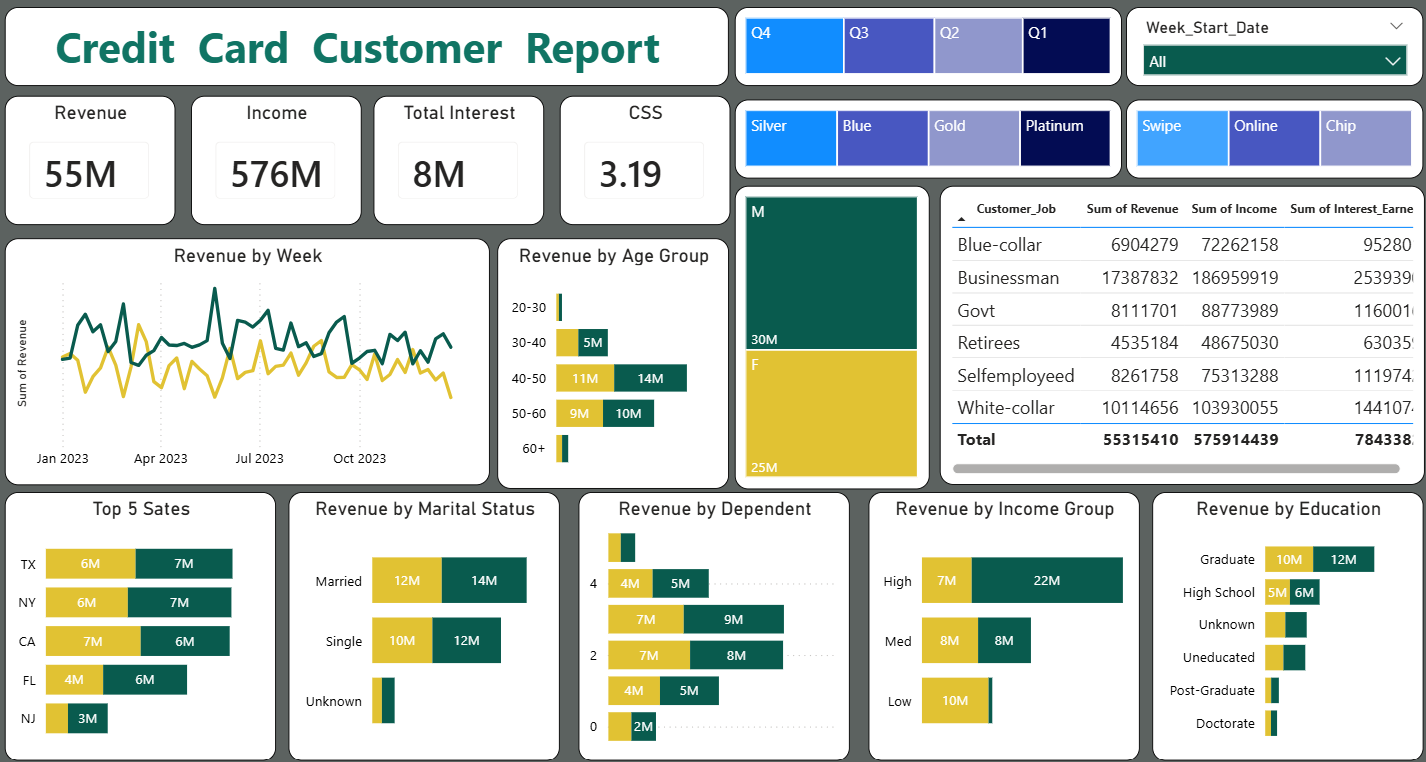

The page's visual inventory and layout, read from the dashboard file:
{"tool":"powerbi","page":{"name":"CC Customer","canvas":[1280,720],"ordinal":2},"visuals":[{"type":"textbox","box":[8.3,45,645,70],"z":0},{"type":"barChart","title":"Revenue by Income Group","fields":{"Y":["Sum(credit_card (1).Revenue)"],"Category":["customer.IncomeGroup"],"Series":["customer.Gender"]},"box":[776.7,476.7,241.7,240],"z":1000},{"type":"tableEx","fields":{"Values":["customer.Customer_Job","Sum(credit_card (1).Revenue)","Sum(customer.Income)","Sum(credit_card (1).Interest_Earned)"]},"box":[840,203.3,431.7,266.7],"z":2000},{"type":"cardVisual","title":"Revenue","fields":{"Data":["Sum(credit_card (1).Revenue)"]},"box":[8.3,123.3,151.7,115],"z":3000},{"type":"cardVisual","title":"Income","fields":{"Data":["Sum(customer.Income)"]},"box":[173.3,123.3,151.7,115],"z":4000},{"type":"cardVisual","title":"Total Interest","fields":{"Data":["Sum(credit_card (1).Interest_Earned)"]},"box":[336.7,123.3,151.7,115],"z":5000},{"type":"cardVisual","title":"CSS","fields":{"Data":["Avg(customer.Cust_Satisfaction_Score)"]},"box":[501.7,123.3,151.7,115],"z":6000},{"type":"slicer","fields":{"Values":["credit_card (1).Week_Start_Date"]},"box":[1006.7,45,265,70],"z":7000},{"type":"treemap","fields":{"Group":["credit_card (1).Qtr"],"Values":["Avg(credit_card (1).Client_Num)"]},"box":[658.3,45,345,70],"z":8000},{"type":"treemap","fields":{"Values":["Avg(credit_card (1).Client_Num)"],"Group":["credit_card (1).Card_Category"]},"box":[658.3,126.7,345,70],"z":9000},{"type":"actionButton","box":[0,0,100,40],"z":10000},{"type":"lineChart","title":"Revenue by Week","fields":{"Series":["customer.Gender"],"Y":["Sum(credit_card (1).Revenue)"],"Category":["credit_card (1).Week_Start_Date.Variation.Date Hierarchy.Year","credit_card (1).Week_Start_Date.Variation.Date Hierarchy.Month","credit_card (1).Week_Start_Date.Variation.Date Hierarchy.Day"]},"box":[8.3,250,431.7,220],"z":11000},{"type":"treemap","fields":{"Group":["customer.Gender"],"Values":["Sum(credit_card (1).Revenue)"]},"box":[658.3,203.3,173.3,270],"z":12000},{"type":"barChart","title":"Revenue by Age Group","fields":{"Y":["Sum(credit_card (1).Revenue)"],"Category":["customer.AgeGroup"],"Series":["customer.Gender"]},"box":[446.7,250,206.7,223.3],"z":13000},{"type":"barChart","title":"Revenue by Dependent","fields":{"Y":["Sum(credit_card (1).Revenue)"],"Category":["customer.Dependent_Count"],"Series":["customer.Gender"]},"box":[518.3,476.7,241.7,240],"z":14000},{"type":"barChart","title":"Revenue by Education","fields":{"Y":["Sum(credit_card (1).Revenue)"],"Category":["customer.Education_Level"],"Series":["customer.Gender"]},"box":[1030,476.7,241.7,240],"z":15000},{"type":"barChart","title":"Top 5 Sates","fields":{"Y":["Sum(credit_card (1).Revenue)"],"Category":["customer.state_cd"],"Series":["customer.Gender"]},"box":[8.3,476.7,241.7,240],"z":16000},{"type":"barChart","title":"Revenue by Marital Status","fields":{"Y":["Sum(credit_card (1).Revenue)"],"Category":["customer.Marital_Status"],"Series":["customer.Gender"]},"box":[260,476.7,241.7,240],"z":17000},{"type":"treemap","fields":{"Values":["Avg(credit_card (1).Client_Num)"],"Group":["credit_card (1).Use Chip"]},"box":[1006.7,126.7,265,70],"z":18000}]}

Visuals, with their boxes in screenshot pixels (x1, y1, x2, y2):
textbox: [2,2,725,81]
"Revenue by Income Group" barChart: [863,486,1134,755]
tableEx - customer.Customer_Job x Sum(credit_card (1).Revenue): [934,180,1418,478]
"Revenue" cardVisual: [2,90,172,219]
"Income" cardVisual: [187,90,357,219]
"Total Interest" cardVisual: [370,90,540,219]
"CSS" cardVisual: [555,90,725,219]
slicer - credit_card (1).Week_Start_Date: [1121,2,1418,81]
treemap - credit_card (1).Qtr x Avg(credit_card (1).Client_Num): [730,2,1117,81]
treemap - Avg(credit_card (1).Client_Num) x credit_card (1).Card_Category: [730,94,1117,172]
"Revenue by Week" lineChart: [2,232,486,478]
treemap - customer.Gender x Sum(credit_card (1).Revenue): [730,180,925,482]
"Revenue by Age Group" barChart: [493,232,725,482]
"Revenue by Dependent" barChart: [573,486,844,755]
"Revenue by Education" barChart: [1147,486,1418,755]
"Top 5 Sates" barChart: [2,486,273,755]
"Revenue by Marital Status" barChart: [284,486,555,755]
treemap - Avg(credit_card (1).Client_Num) x credit_card (1).Use Chip: [1121,94,1418,172]
